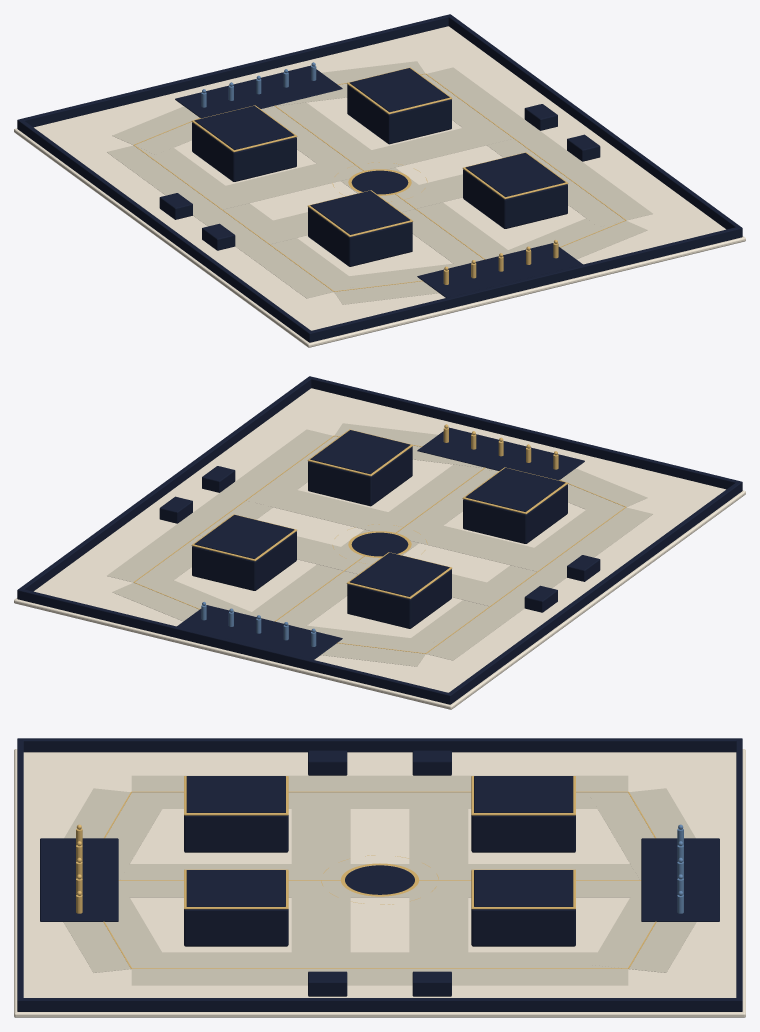
Rendered from daftar-route-lab.glb.
3 views of the same model, one above another, from view 1: azimuth 30°, elevation 25°; view 2: azimuth 150°, elevation 25°; view 3: azimuth 270°, elevation 25° (orthographic). The views are drawn at different scales.
Visible parts, largest first — view 1: Ground_48x56m, Route_west_flank_1, Route_east_flank_1, Crosslink_4.5, Route_central_0, Boundary_South, Boundary_North, Boundary_West, Boundary_East, SpawnPad_north, SpawnPad_south, Block_EN (+17 smaller); view 2: Ground_48x56m, Route_west_flank_1, Route_east_flank_1, Crosslink_-4.5, Route_central_0, Boundary_North, Boundary_South, Boundary_West, Boundary_East, SpawnPad_south, SpawnPad_north, Block_ES (+17 smaller); view 3: Ground_48x56m, Route_east_flank_1, Boundary_West, Crosslink_-4.5, Crosslink_4.5, Boundary_East, Route_west_flank_1, SpawnPad_south, SpawnPad_north, Route_central_0, Route_east_flank_2, Route_west_flank_2 (+24 smaller).
Part boxes in pixels (left/top/right/bottom): Ground_48x56m: left=14, top=26, right=745, bottom=347; Route_west_flank_1: left=107, top=145, right=360, bottom=298; Route_east_flank_1: left=427, top=67, right=652, bottom=226; Crosslink_4.5: left=199, top=121, right=513, bottom=209; Route_central_0: left=263, top=102, right=507, bottom=263; Boundary_South: left=307, top=226, right=742, bottom=342; Boundary_North: left=17, top=14, right=451, bottom=130; Boundary_West: left=18, top=120, right=311, bottom=341; Boundary_East: left=448, top=15, right=740, bottom=229; SpawnPad_north: left=175, top=65, right=342, bottom=118; SpawnPad_south: left=417, top=243, right=582, bottom=297; Block_EN: left=347, top=84, right=451, bottom=144; Ground_48x56m: left=14, top=388, right=745, bottom=709; Route_west_flank_1: left=411, top=501, right=652, bottom=660; Route_east_flank_1: left=107, top=429, right=338, bottom=582; Crosslink_-4.5: left=246, top=483, right=560, bottom=571; Route_central_0: left=252, top=464, right=496, bottom=625; Boundary_North: left=17, top=588, right=452, bottom=704; Boundary_South: left=308, top=376, right=742, bottom=491; Boundary_West: left=448, top=482, right=741, bottom=702; Boundary_East: left=20, top=377, right=311, bottom=591; SpawnPad_south: left=417, top=427, right=584, bottom=480; SpawnPad_north: left=177, top=605, right=342, bottom=659; Block_ES: left=308, top=446, right=412, bottom=506; Ground_48x56m: left=14, top=749, right=745, bottom=1017; Route_east_flank_1: left=131, top=952, right=628, bottom=985; Boundary_West: left=21, top=738, right=738, bottom=752; Crosslink_-4.5: left=291, top=792, right=350, bottom=968; Crosslink_4.5: left=409, top=792, right=468, bottom=968; Boundary_East: left=21, top=998, right=738, bottom=1011; Route_west_flank_1: left=131, top=775, right=628, bottom=808; SpawnPad_south: left=40, top=838, right=118, bottom=921; SpawnPad_north: left=641, top=838, right=719, bottom=921; Route_central_0: left=120, top=864, right=639, bottom=897; Route_east_flank_2: left=590, top=879, right=696, bottom=972; Route_west_flank_2: left=590, top=788, right=695, bottom=879.
Bounding box in the file's own units: 48 × 3.77 × 56.
